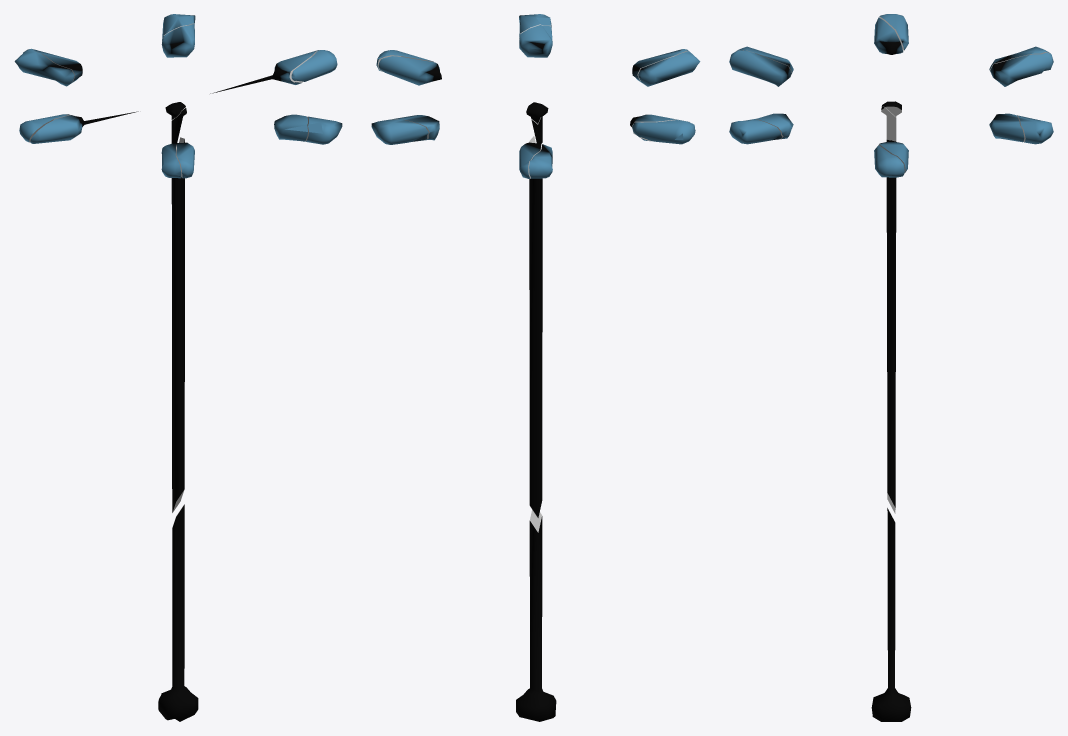
Rendered from Street Lights.glb.
3 renders of one model, left to right at view 1: azimuth 30°, elevation 25°; view 2: azimuth 150°, elevation 25°; view 3: azimuth 270°, elevation 25°, orthographic.
Parts seen in each view (by area): view 1: Root.008, Root, Root.002, Root.004, Root.014, Root.007, Root.006, Root.005, Root.013, Root.011, Root.003; view 2: Root.008, Root, Root.006, Root.010, Root.003, Root.015, Root.005, Root.004; view 3: Root.008, Root, Root.011, Root.012, Root.013, Root.007, Root.002, Root.015, Root.014, Root.010.
Part boxes in pixels (left/top/right/bottom): Root.008: left=171, top=137, right=184, bottom=512; Root: left=158, top=504, right=198, bottom=721; Root.002: left=30, top=111, right=138, bottom=143; Root.004: left=14, top=48, right=74, bottom=86; Root.014: left=291, top=50, right=337, bottom=81; Root.007: left=161, top=24, right=194, bottom=57; Root.006: left=210, top=50, right=319, bottom=93; Root.005: left=274, top=114, right=307, bottom=141; Root.013: left=305, top=116, right=342, bottom=144; Root.011: left=175, top=142, right=194, bottom=178; Root.003: left=161, top=143, right=181, bottom=178; Root.008: left=529, top=136, right=542, bottom=517; Root: left=516, top=509, right=556, bottom=721; Root.006: left=378, top=56, right=441, bottom=85; Root.010: left=632, top=120, right=695, bottom=144; Root.003: left=638, top=51, right=700, bottom=86; Root.015: left=371, top=119, right=428, bottom=144; Root.005: left=519, top=25, right=552, bottom=57; Root.004: left=529, top=144, right=552, bottom=178; Root.008: left=886, top=140, right=896, bottom=513; Root: left=871, top=508, right=911, bottom=721; Root.011: left=729, top=50, right=791, bottom=86; Root.012: left=990, top=53, right=1053, bottom=86; Root.013: left=729, top=119, right=781, bottom=144; Root.007: left=989, top=113, right=1024, bottom=142; Root.002: left=874, top=17, right=903, bottom=54; Root.015: left=1017, top=115, right=1053, bottom=144; Root.014: left=874, top=145, right=904, bottom=177; Root.010: left=879, top=14, right=908, bottom=50.
Bounding box in the file's own units: 1.41 × 2.71 × 1.26.
